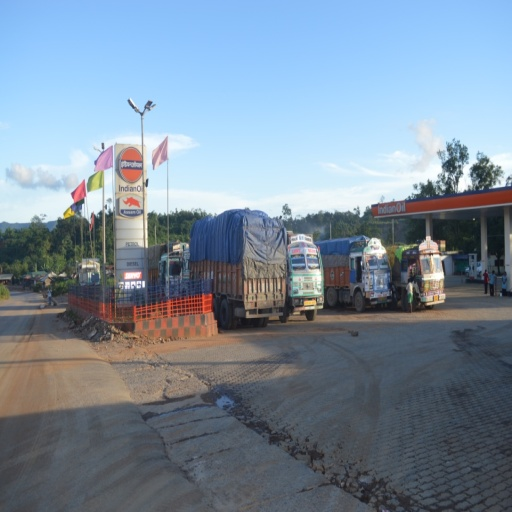roof: (371, 187, 512, 237)
